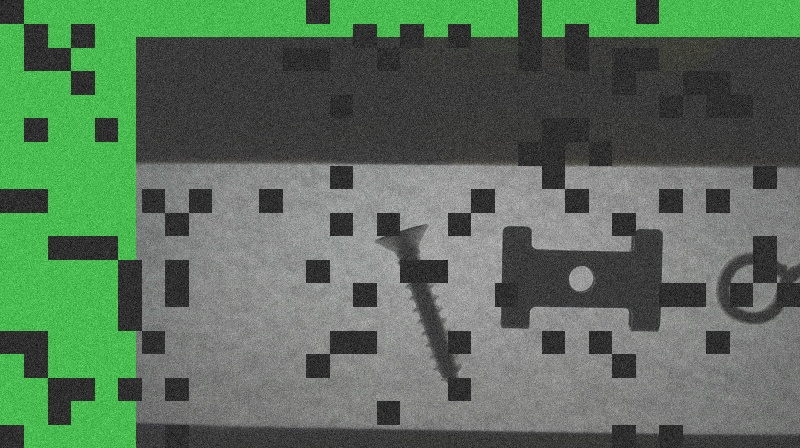O001: (709, 235, 799, 326)
O002: (494, 218, 665, 335)
S001: (372, 219, 464, 398)
